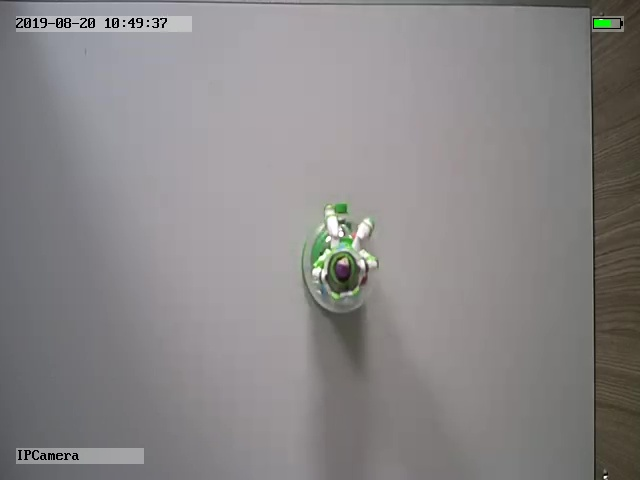buzz: (296, 199, 383, 318)
